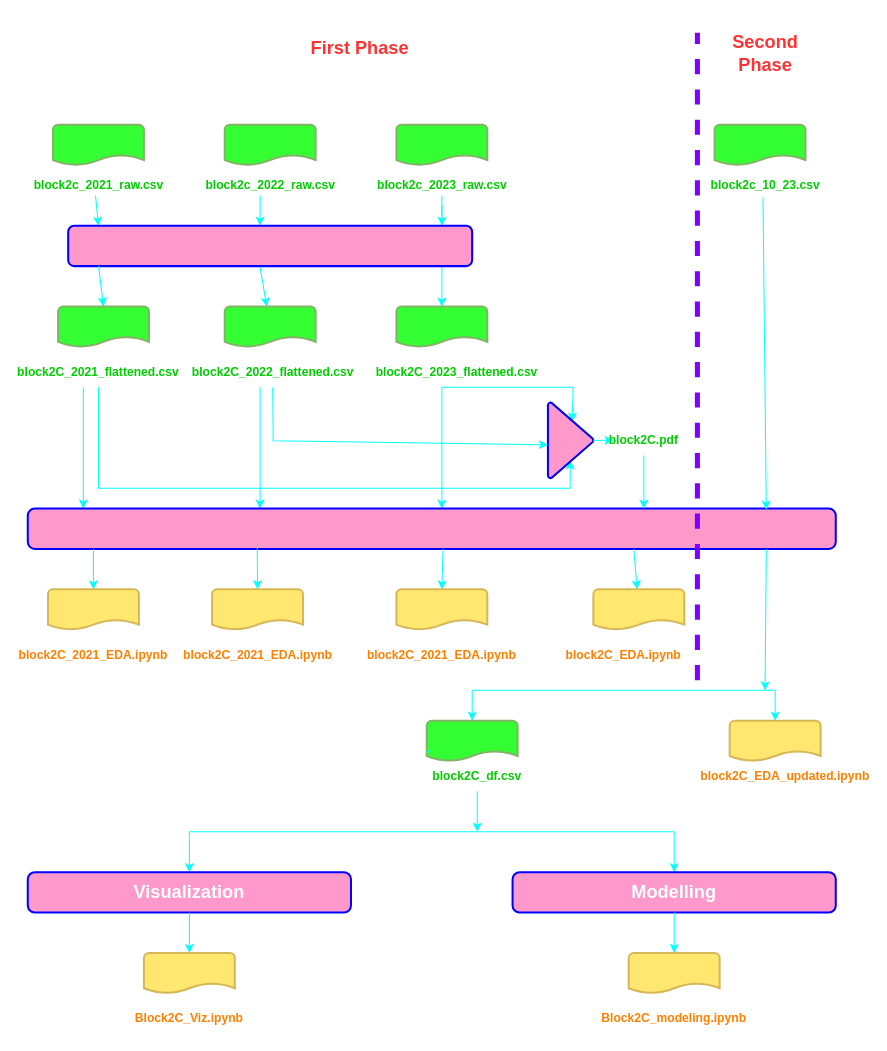
The diagram is 887 pixels wide and 1051 high, and some of its shapes have lost their labels. The centre of each missing label's shape, as x and y in pixels:
E D A: the point at 431,528
F L A T T E N: the point at 270,245
